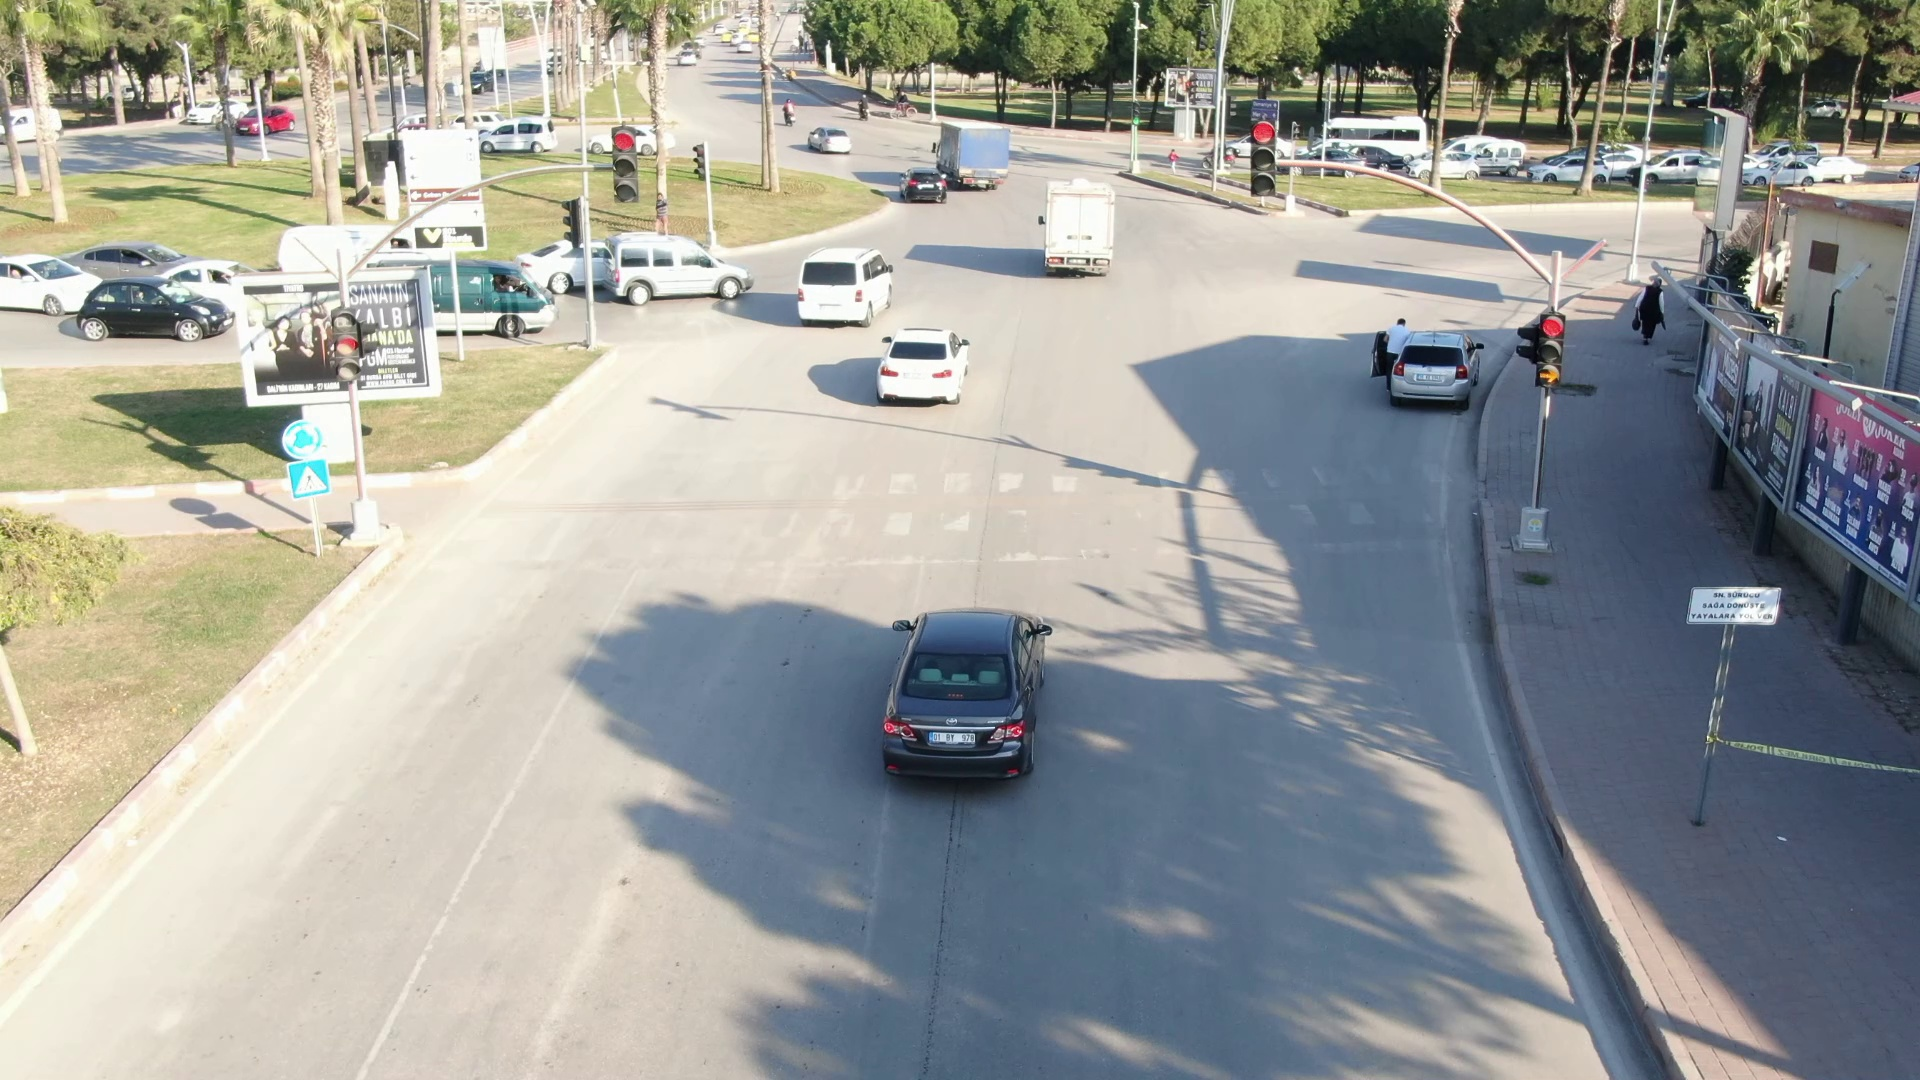car: (864, 584, 1078, 804), (599, 227, 769, 316), (67, 271, 241, 358), (1026, 173, 1125, 287), (781, 245, 909, 328), (871, 319, 976, 414), (1386, 327, 1487, 410), (887, 162, 958, 208)
person: (1625, 272, 1681, 353)
